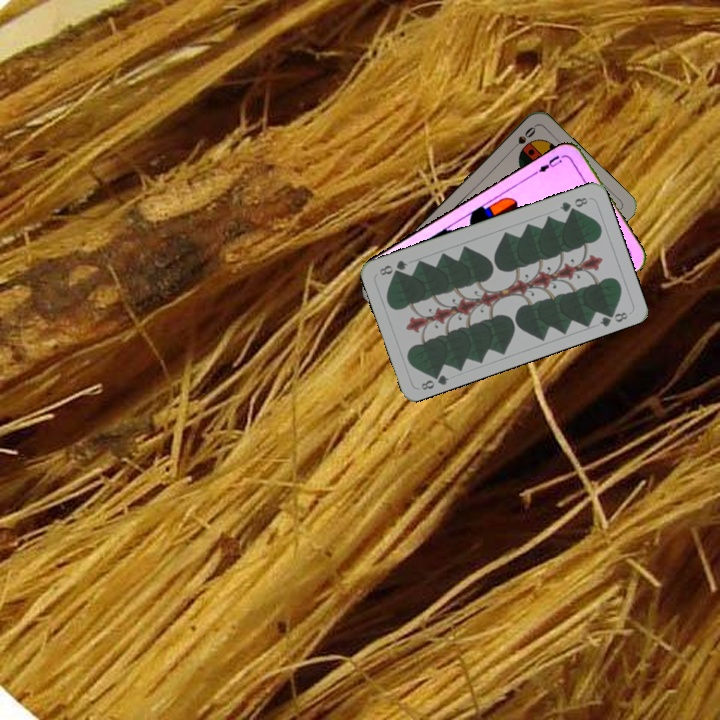EU: (531, 151, 568, 177)
G8: (417, 367, 452, 393), (555, 193, 590, 215)
SO: (505, 123, 538, 155)
